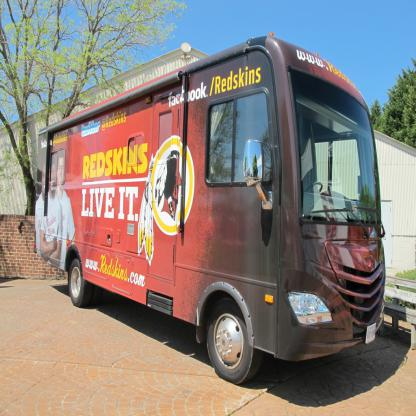Bus: (35, 32, 386, 384)
